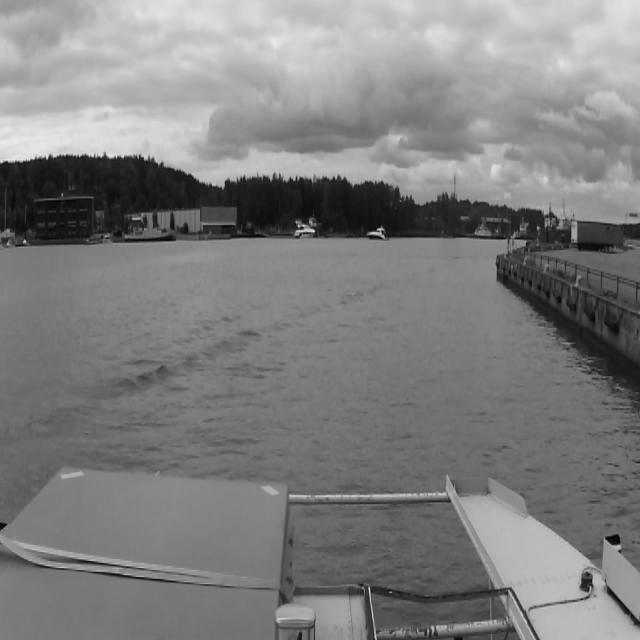ship: (294, 221, 316, 239), (367, 227, 389, 241)
